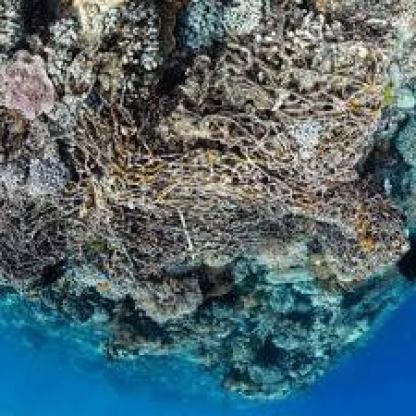net: (20, 27, 400, 274)
